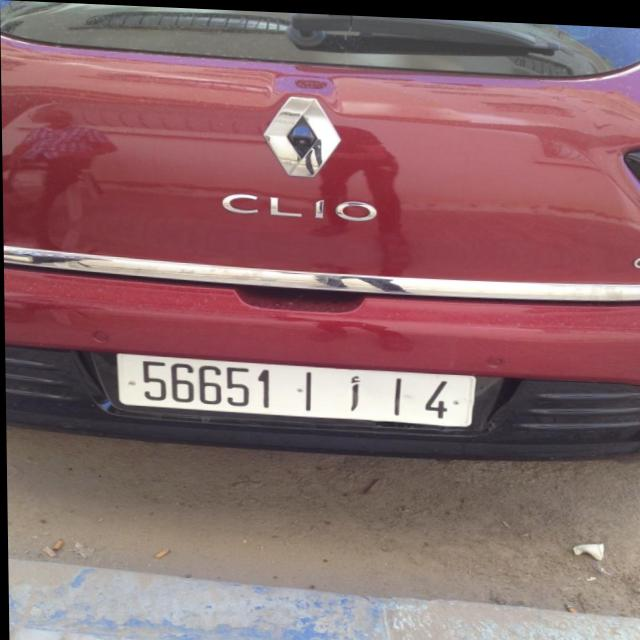License-Plate: (116, 353, 474, 423)
